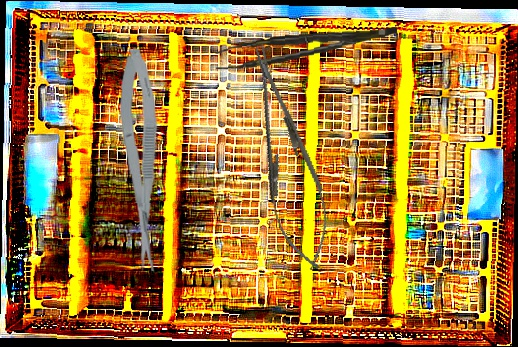Micro Scissor: (117, 48, 163, 272)
Needle Holder: (233, 40, 343, 276)
Tissue Forceps: (214, 26, 399, 71)
